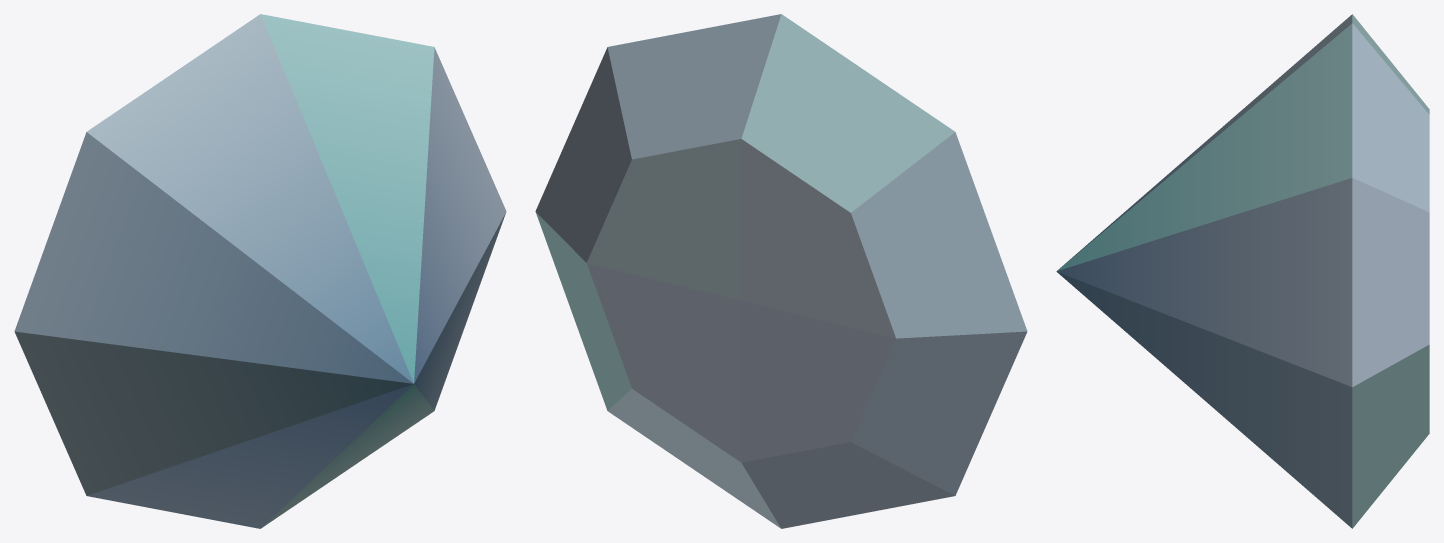
The model's file is Diamond.004.glb.
The picture shows the model from 3 angles, left to right: view 1: azimuth 30°, elevation 25°; view 2: azimuth 150°, elevation 25°; view 3: azimuth 270°, elevation 25°; orthographic projection. The views are drawn at different scales.
Parts seen in each view (by area): view 1: Diamond.004; view 2: Diamond.004; view 3: Diamond.004.
Boxes of the visible parts, x1=… form: Diamond.004: x1=14, y1=14, x2=506, y2=528; Diamond.004: x1=535, y1=14, x2=1027, y2=528; Diamond.004: x1=1056, y1=14, x2=1429, y2=528.
Size of the model in its own units: 66.94 by 66.94 by 45.63.
